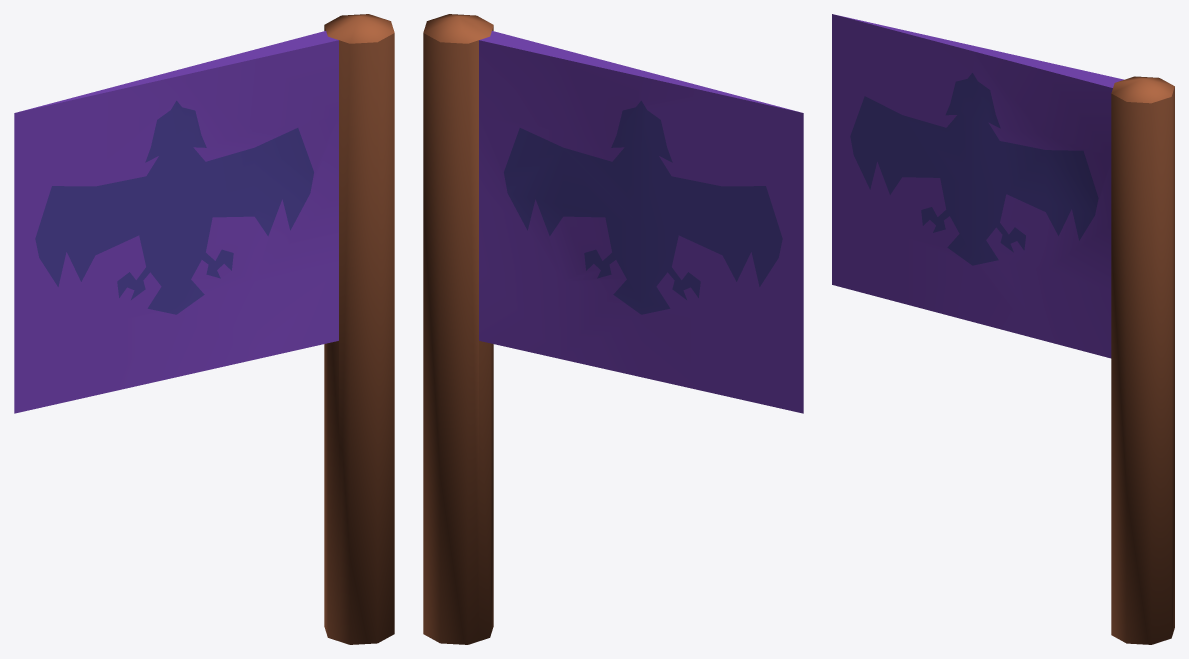
The model's file is PurpleFlag.fbx.
3 renders of one model, left to right at view 1: azimuth 30°, elevation 25°; view 2: azimuth 150°, elevation 25°; view 3: azimuth 330°, elevation 25°, orthographic. The views are drawn at different scales.
Parts seen in each view (by area): view 1: Cylinder; view 2: Cylinder; view 3: Cylinder.
Boxes of the visible parts, <box> form: Cylinder: <box>14,14,394,644</box>; Cylinder: <box>423,14,803,644</box>; Cylinder: <box>832,14,1174,644</box>.
Bounding box in the file's own units: 131 × 208 × 22.
